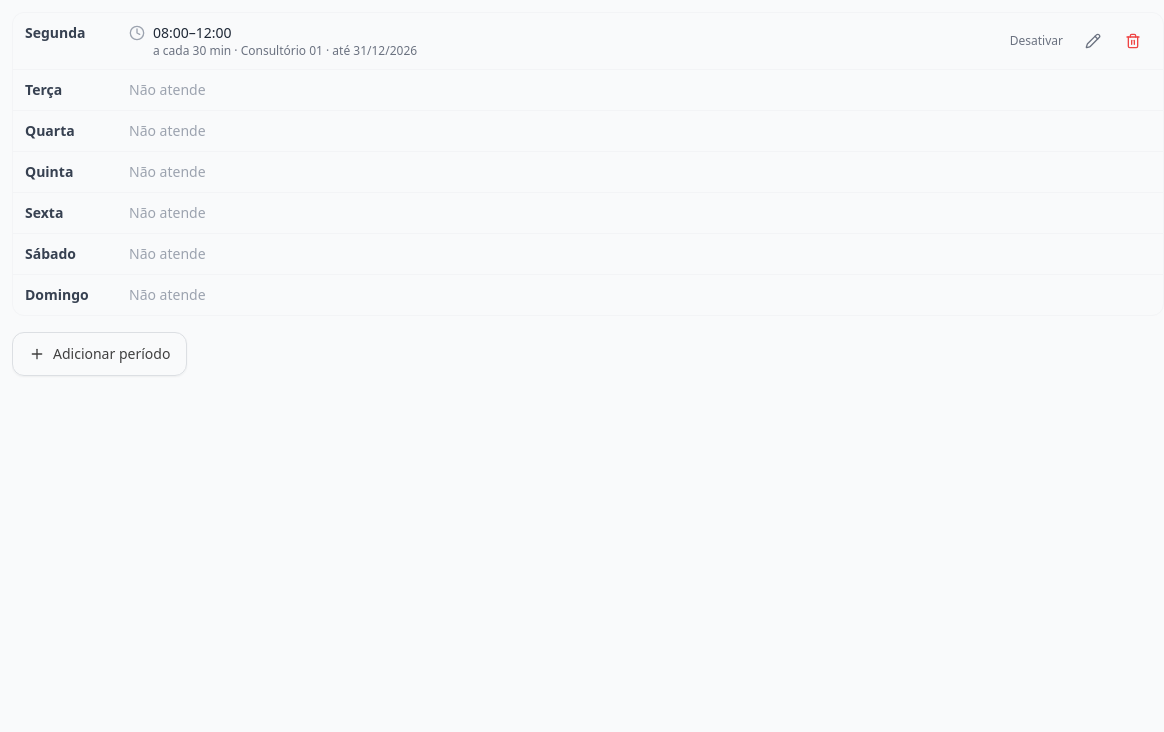
Test case: ScheduleWeekEditor (MIG-05) › mostra a sobreposição recusada pela API
The image size is (1164, 732).
Check: the text "08:00–12:00" is shown, box [153, 23, 232, 42]
Click the button "Adicionar período": click(100, 354) [12, 332, 187, 376]
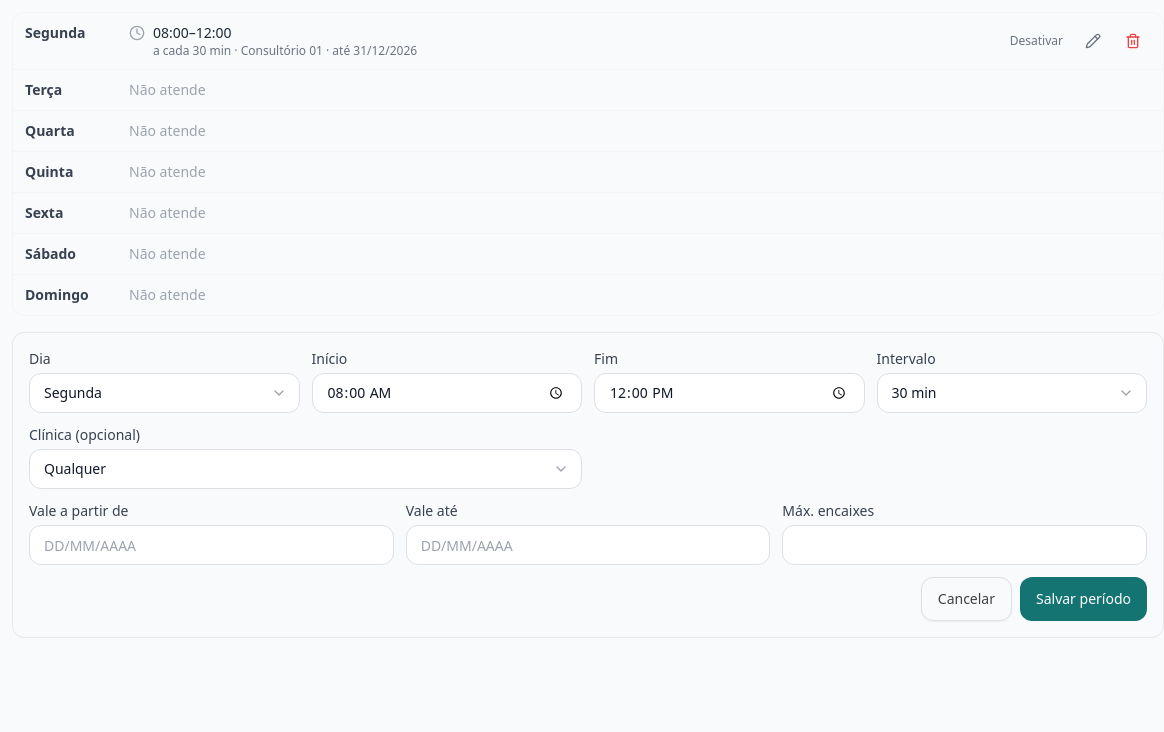
Click the button "Salvar período": click(1084, 599) [1020, 577, 1147, 621]
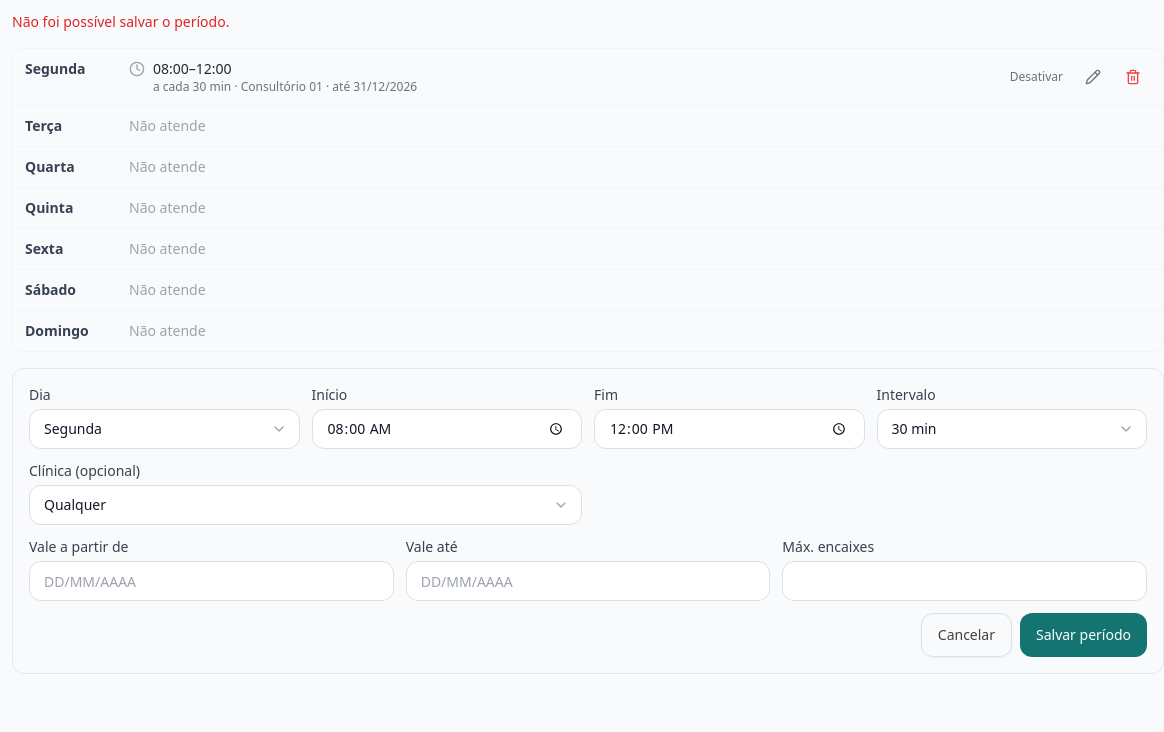
Check: the message "Não foi possível salvar o período." is shown, box [12, 12, 229, 31]
